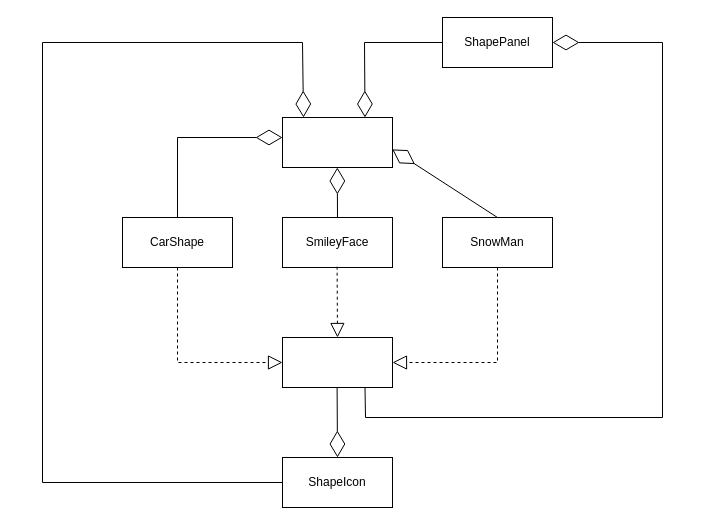
The diagram is 706 pixels wide and 526 high, and some of its shapes have lost their labels. The box of each missing label's shape, as (x1, y1, x2, y2) in pixels:
<<interface>> CompositeShape: (282, 336, 392, 388)
ShapeDisplayer: (282, 116, 392, 168)
